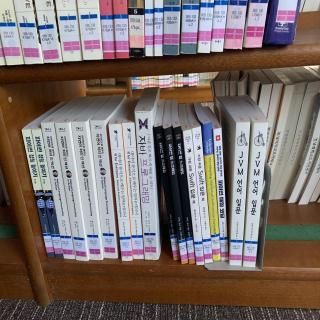book-spine: (41, 121, 75, 261), (55, 121, 88, 263), (21, 128, 55, 258), (71, 121, 102, 262), (32, 129, 63, 258), (90, 119, 117, 260), (242, 122, 268, 267), (135, 111, 158, 261), (155, 126, 180, 261), (109, 124, 133, 262), (227, 122, 250, 266), (165, 127, 188, 265), (122, 122, 144, 260), (174, 126, 195, 264), (192, 127, 213, 263), (183, 130, 204, 265), (203, 121, 221, 262), (213, 128, 228, 261)
